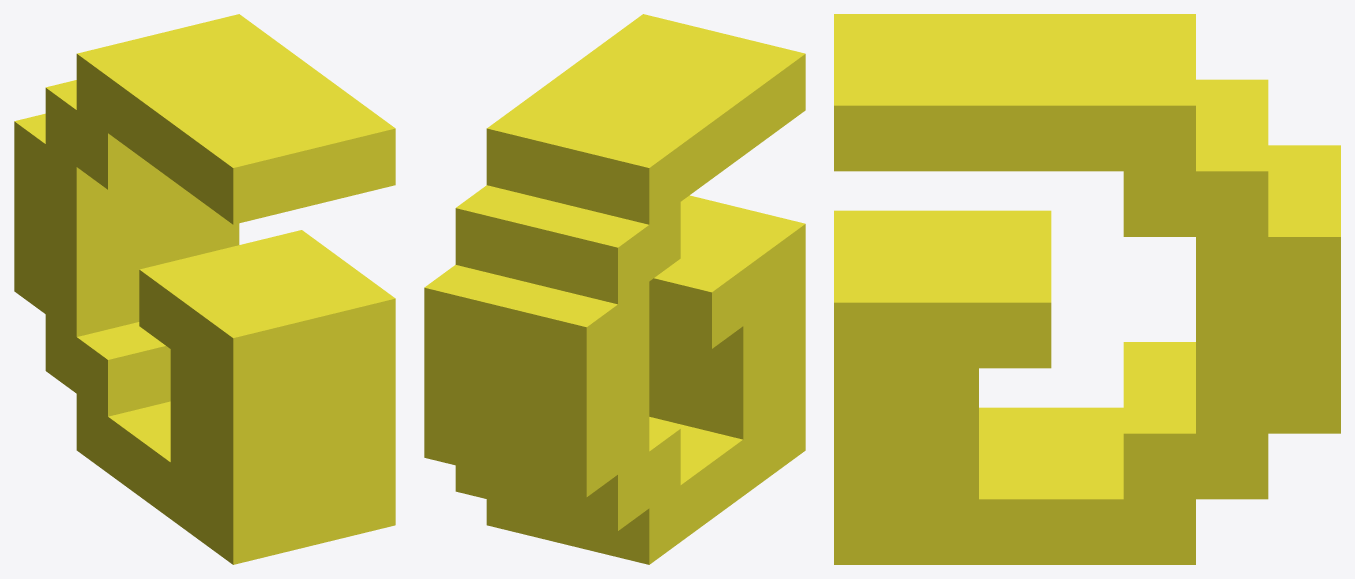
File: goal.glb
3 renders of one model, left to right at view 1: azimuth 30°, elevation 25°; view 2: azimuth 150°, elevation 25°; view 3: azimuth 270°, elevation 25°, orthographic. The views are drawn at different scales.
Parts seen in each view (by area): view 1: Mesh_1; view 2: Mesh_1; view 3: Mesh_1.
Boxes of the visible parts, x1,y1,x2,y2 form: Mesh_1: (14,14,395,564); Mesh_1: (424,14,805,564); Mesh_1: (834,14,1340,564).
Size of the model in its own units: 3 by 7 by 7.
1 material, 1 textured.
